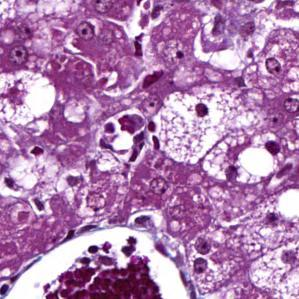ballooning: (199, 132, 284, 186), (4, 67, 57, 127)
